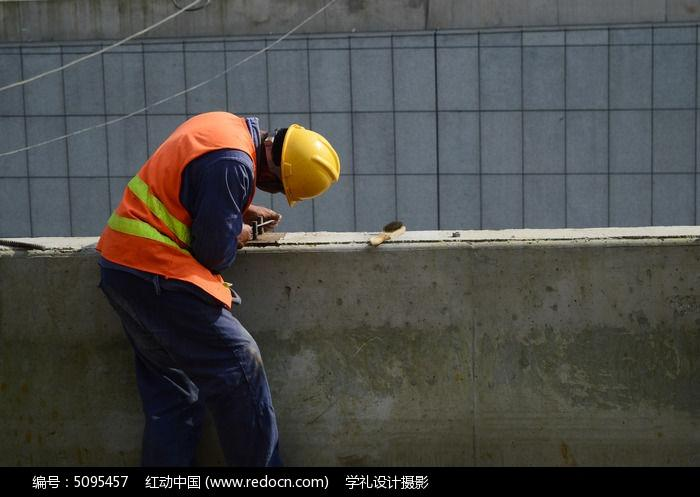helmet: (278, 124, 344, 210)
